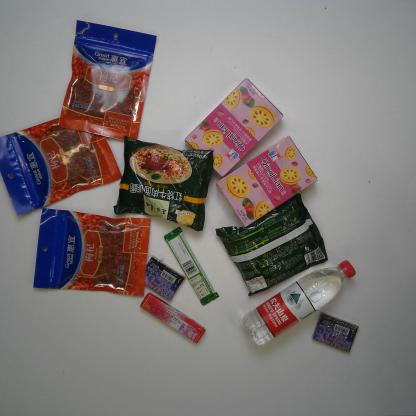Candy: (139, 291, 206, 344)
Chocolate: (164, 226, 220, 307)
Dessert: (184, 76, 284, 178), (216, 134, 318, 228)
Dried Fruit: (58, 19, 158, 142), (0, 117, 123, 216), (32, 207, 152, 297)
Drink: (242, 259, 357, 347)
Gum: (310, 310, 360, 354), (144, 254, 186, 302)
Instant Noodles: (214, 192, 329, 297), (113, 135, 214, 232)
